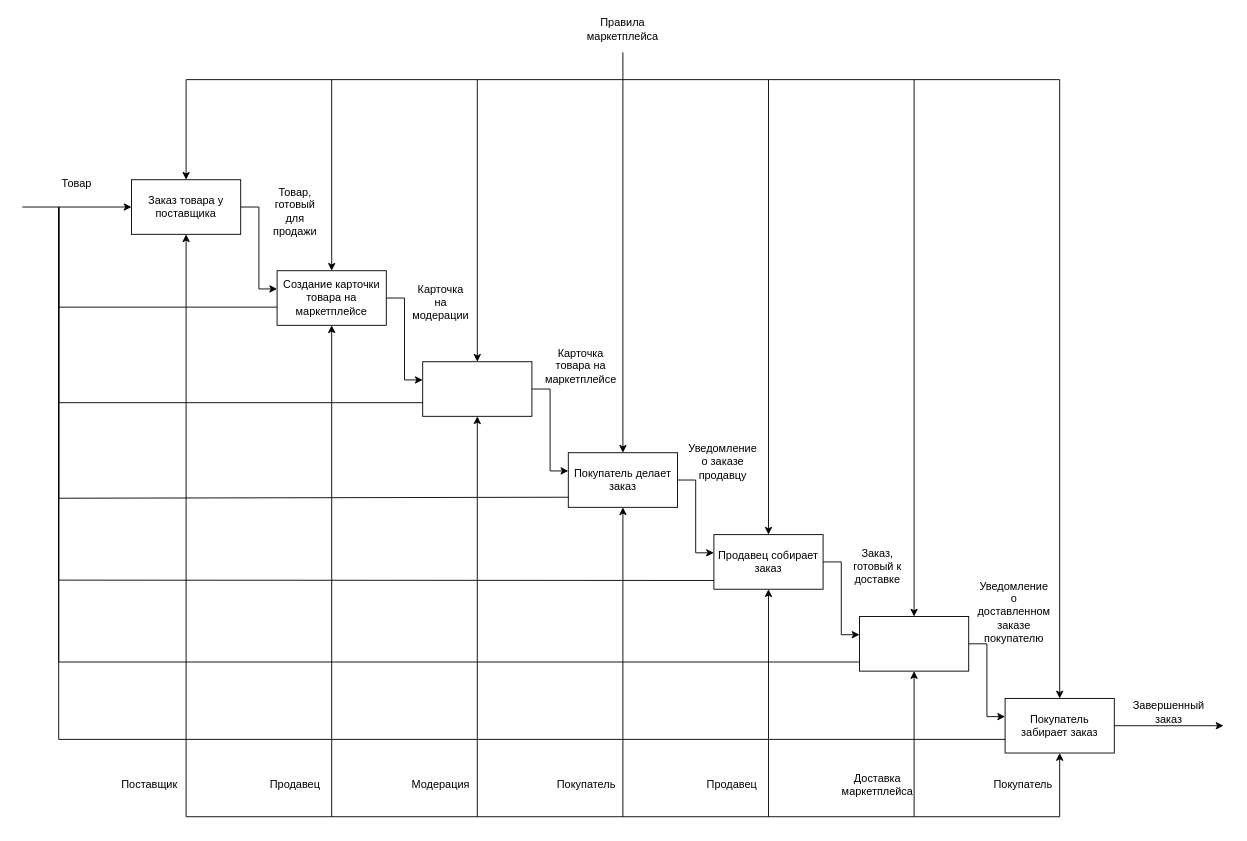
The diagram is 1247 pixels wide and 841 high, and some of its shapes have lost their labels. Here are the shapes that lost their labels. From the top down, the box of each, then its label:
(422, 361, 532, 416): Карточка товара проходит модерацию
(859, 616, 969, 671): Заказ доставляется в пункт выдачи
